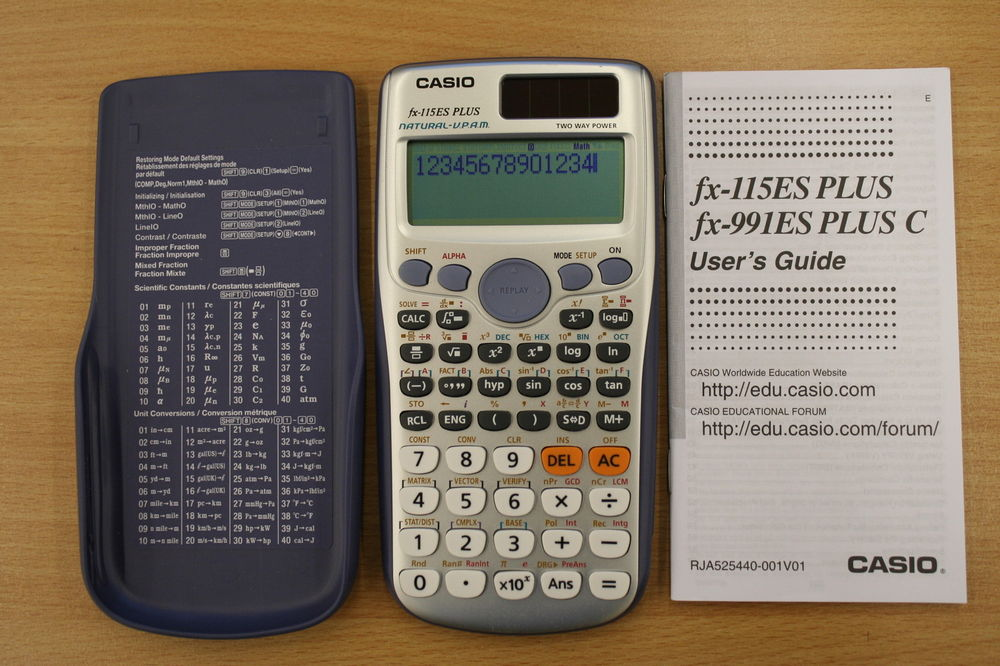Calculator: (370, 46, 661, 648)
